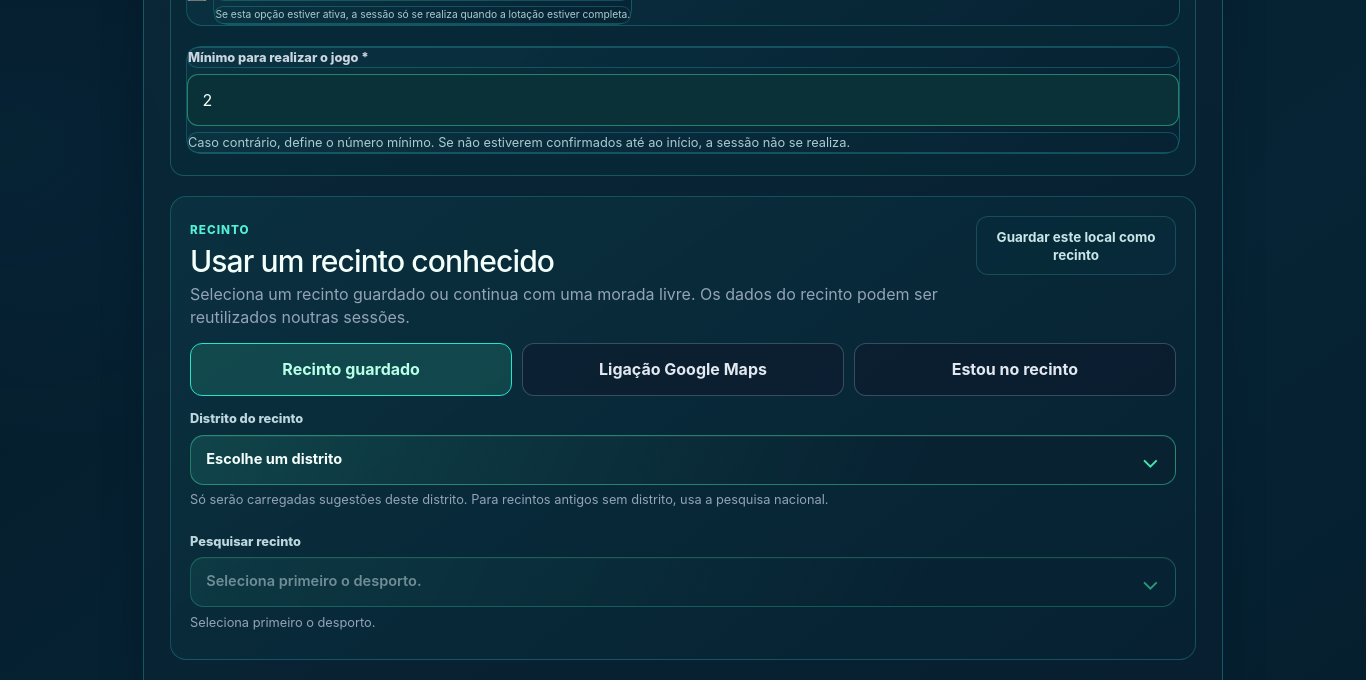
Events2Component › offers three exclusive location methods without requiring a venue in the catalogue
(page scrolled)
expect the element named "venueSearch" is shown: met, box x1=190 y1=557 x2=1176 y2=607
Step 1. Click the button with class "location-method" showing "Ligação Google Maps" → (683, 369), box x1=522 y1=343 x2=844 y2=396
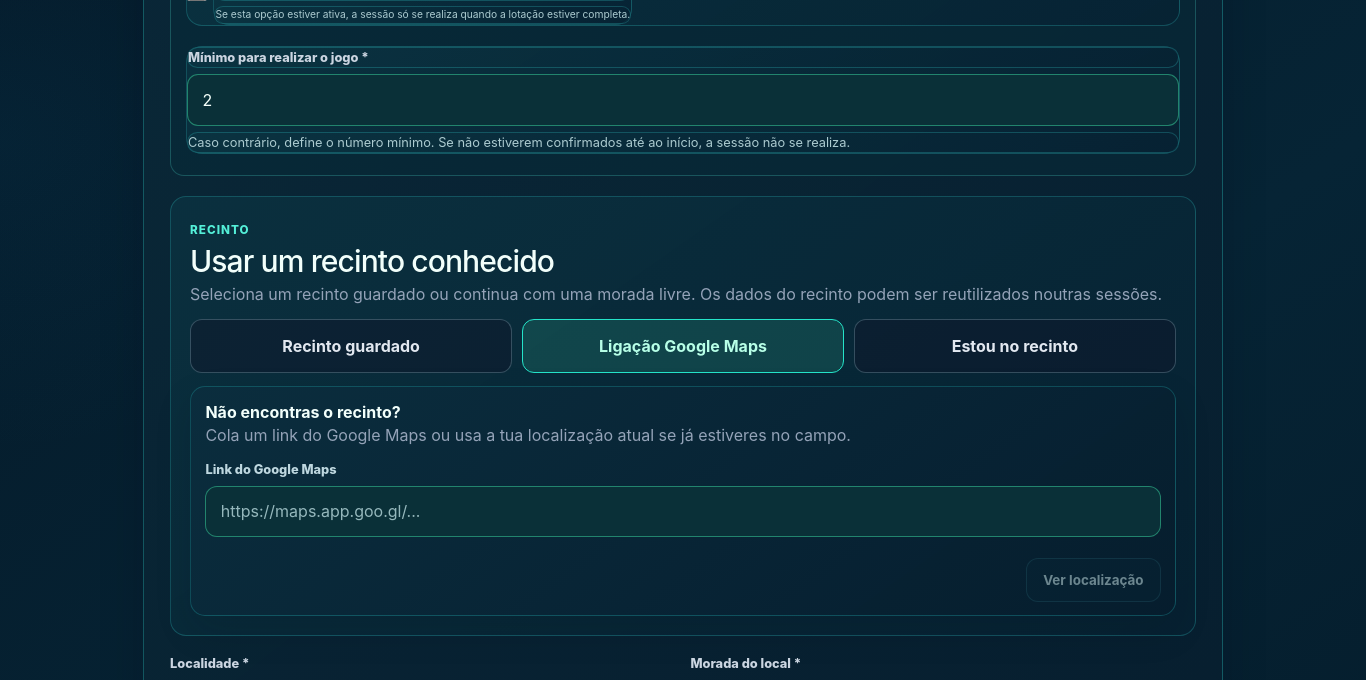
expect the element named "venueSearch" is gone: met
expect the field named "venueMapLink" is shown: met, box x1=205 y1=486 x2=1161 y2=537
Step 2. Click the button with class "location-method" showing "Estou no recinto" → (1015, 346), box x1=854 y1=320 x2=1176 y2=373
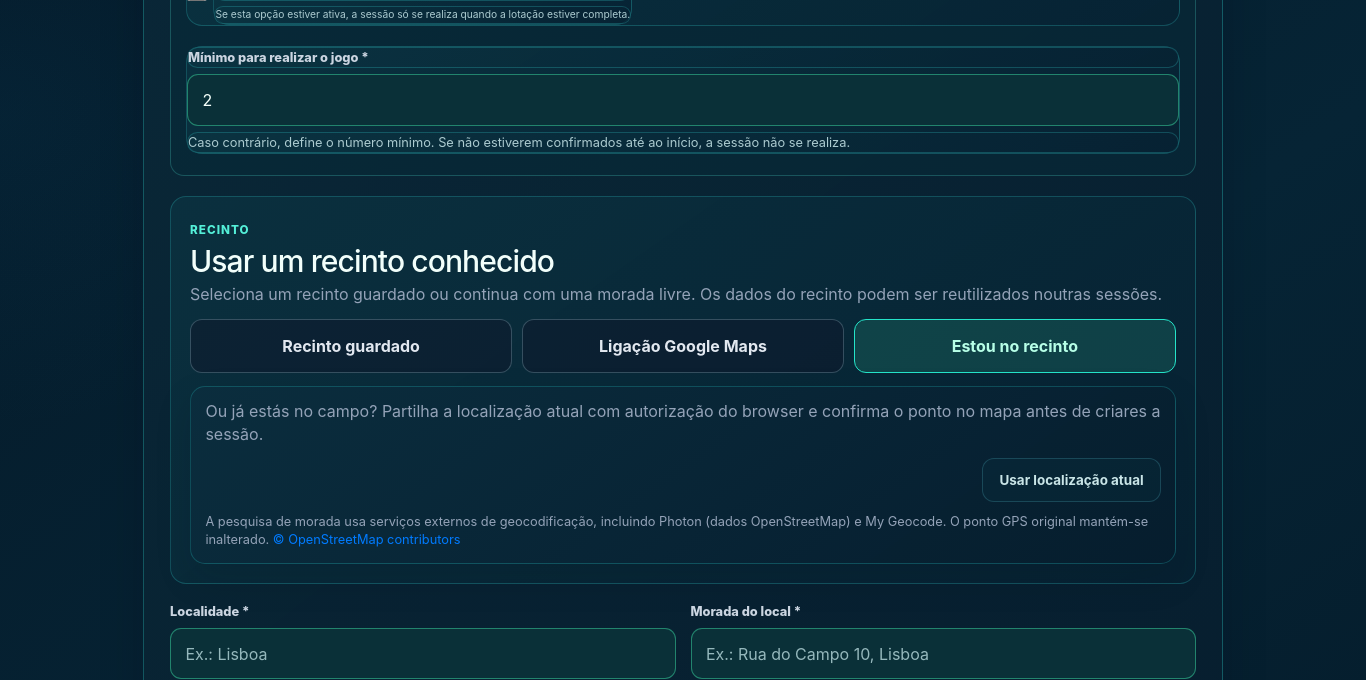
expect the field named "venueMapLink" is gone: met
expect the button with class "gps-location-action" is shown: met, box x1=982 y1=458 x2=1161 y2=502
Step 3. Click the button with class "location-method" showing "Recinto guardado" → (351, 346), box x1=190 y1=320 x2=512 y2=373
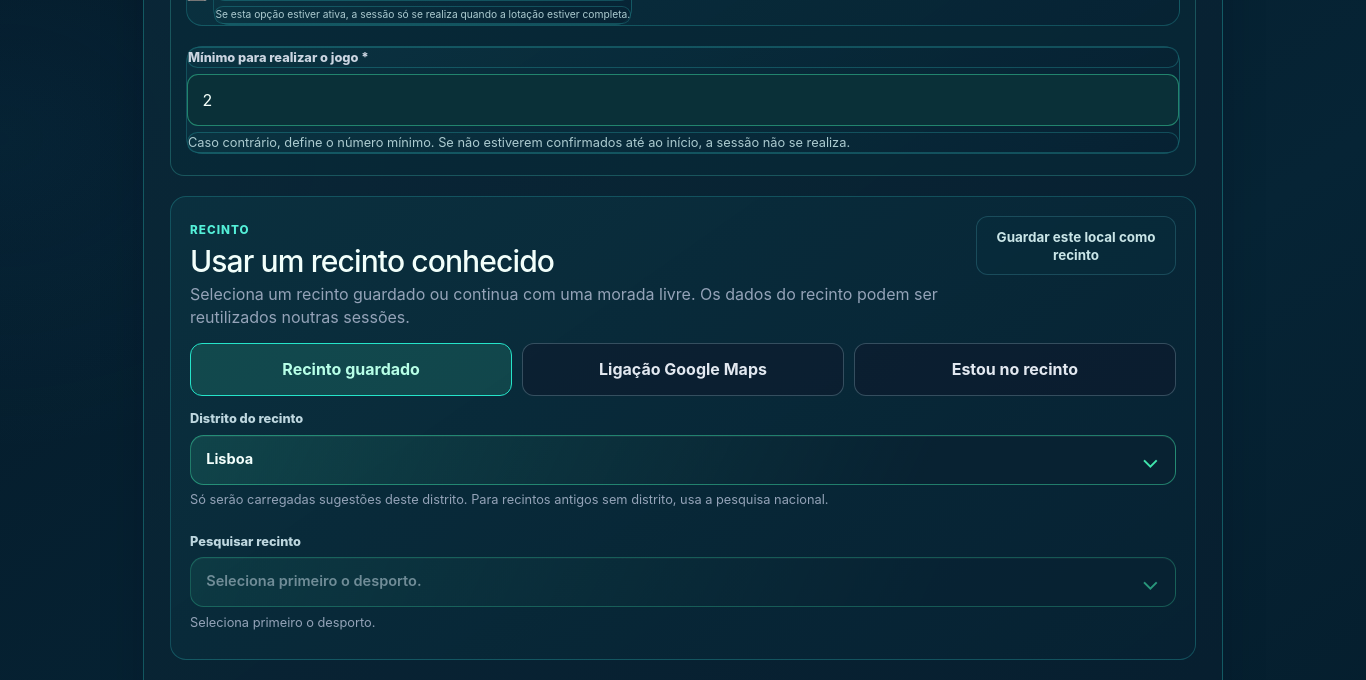
expect the element named "venueSearch" is shown: met, box x1=190 y1=557 x2=1176 y2=607
